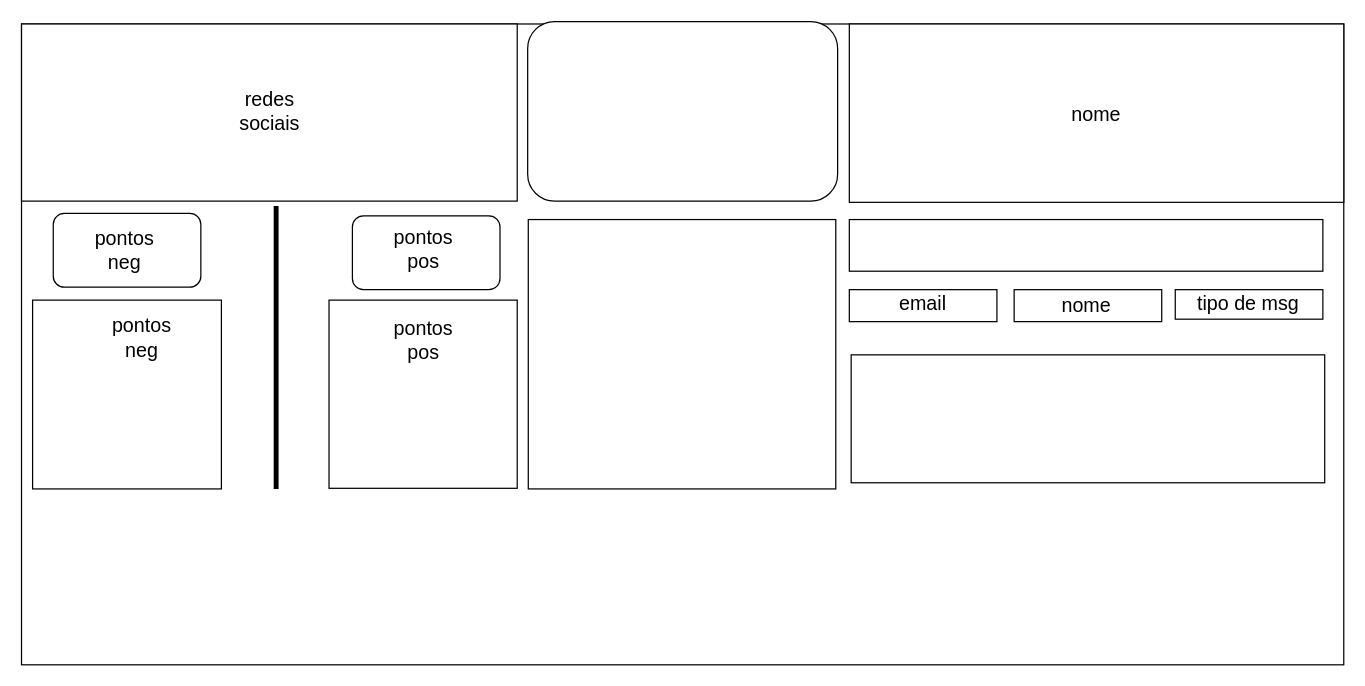
This 1365x686 diagram has some shape labels left out. The box of each missing label's shape, as (x1, y1, x2, y2) in pixels:
foto: (526, 20, 838, 201)
mensagem: (848, 218, 1323, 271)
texto da msg: (850, 354, 1325, 483)
